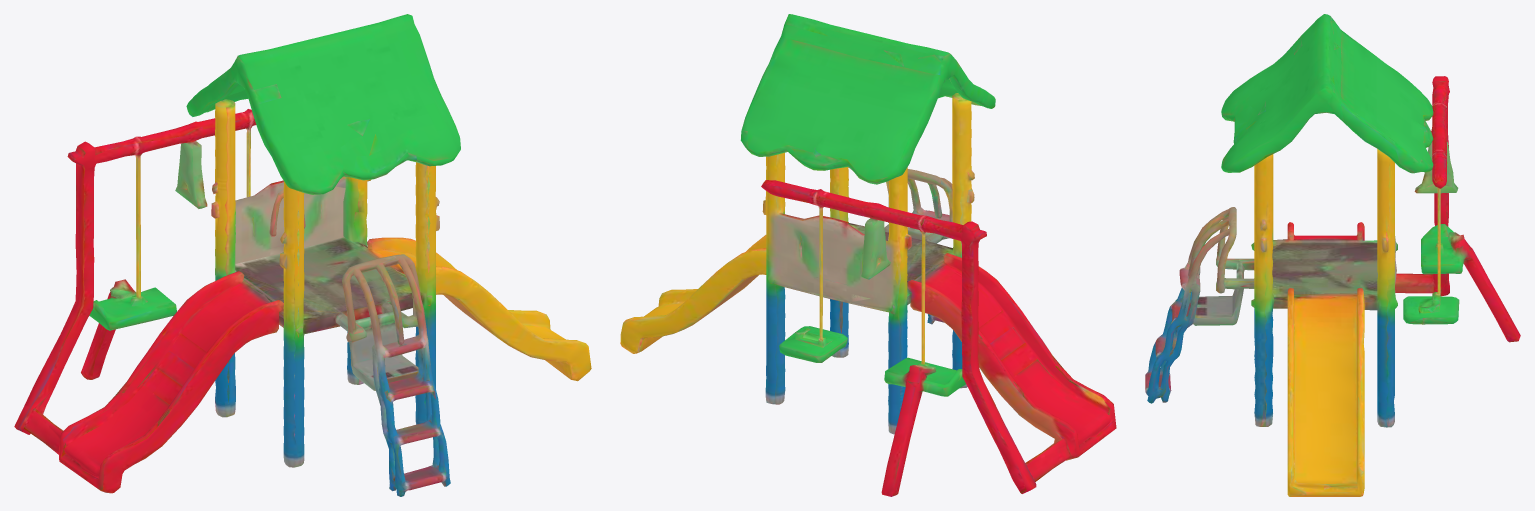
The model's file is playground.glb.
3 views of the same model, side by side, from view 1: azimuth 30°, elevation 25°; view 2: azimuth 150°, elevation 25°; view 3: azimuth 270°, elevation 25° (orthographic). The views are drawn at different scales.
Bounding box in the file's own units: 1.91 × 1.44 × 1.41.
Materials: 1 (1 with a texture image).
